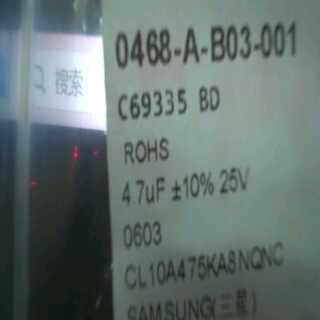4.7uF: (107, 173, 168, 208)
